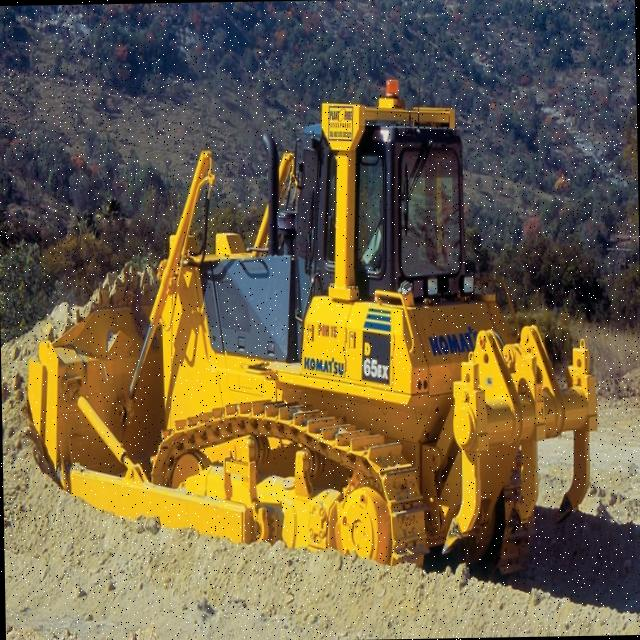Bulldozer: (31, 62, 604, 618)
